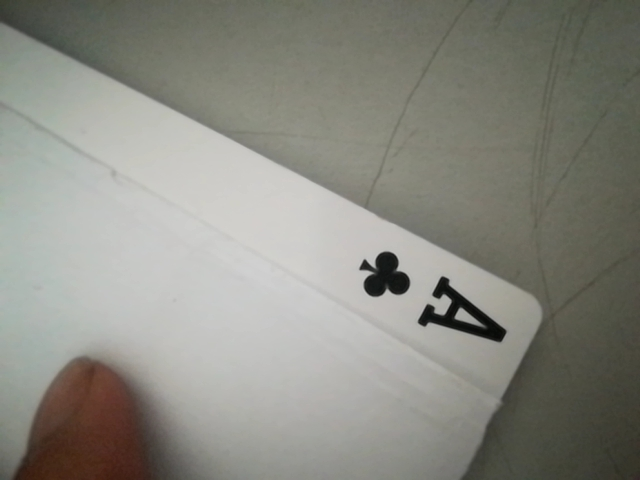mh a: (341, 243, 521, 359)
